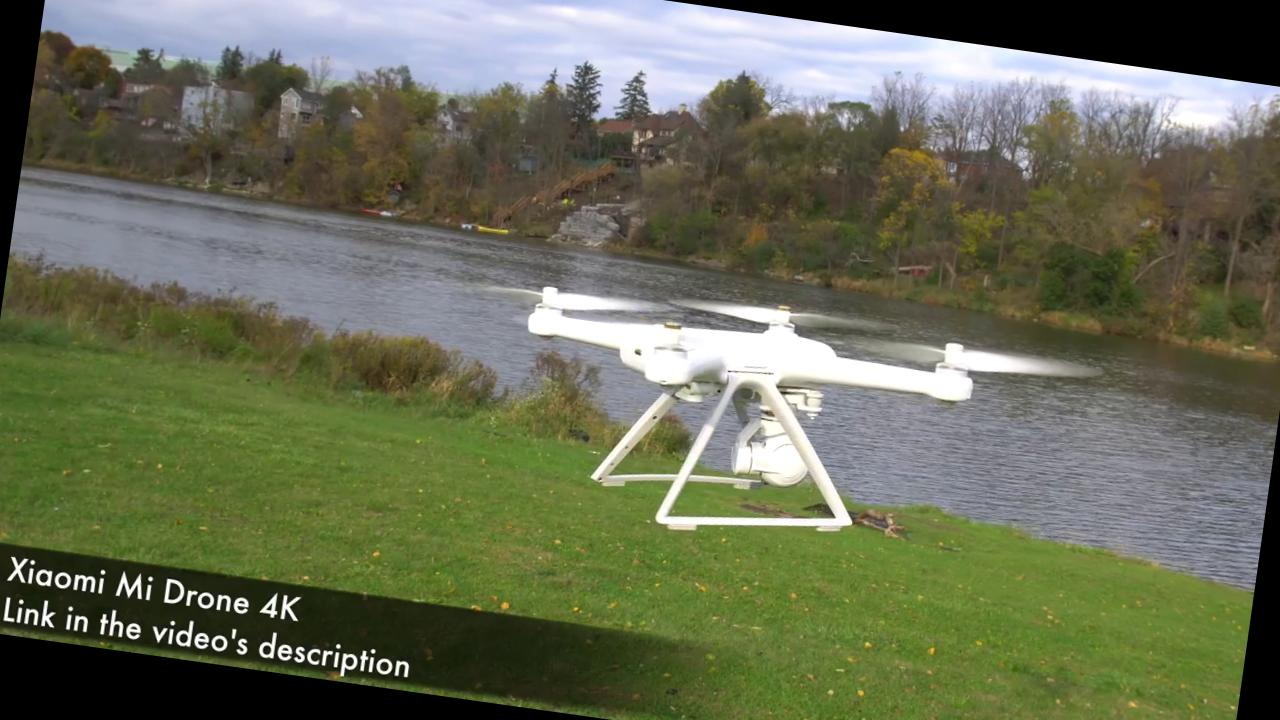drone: (474, 246, 1116, 474)
